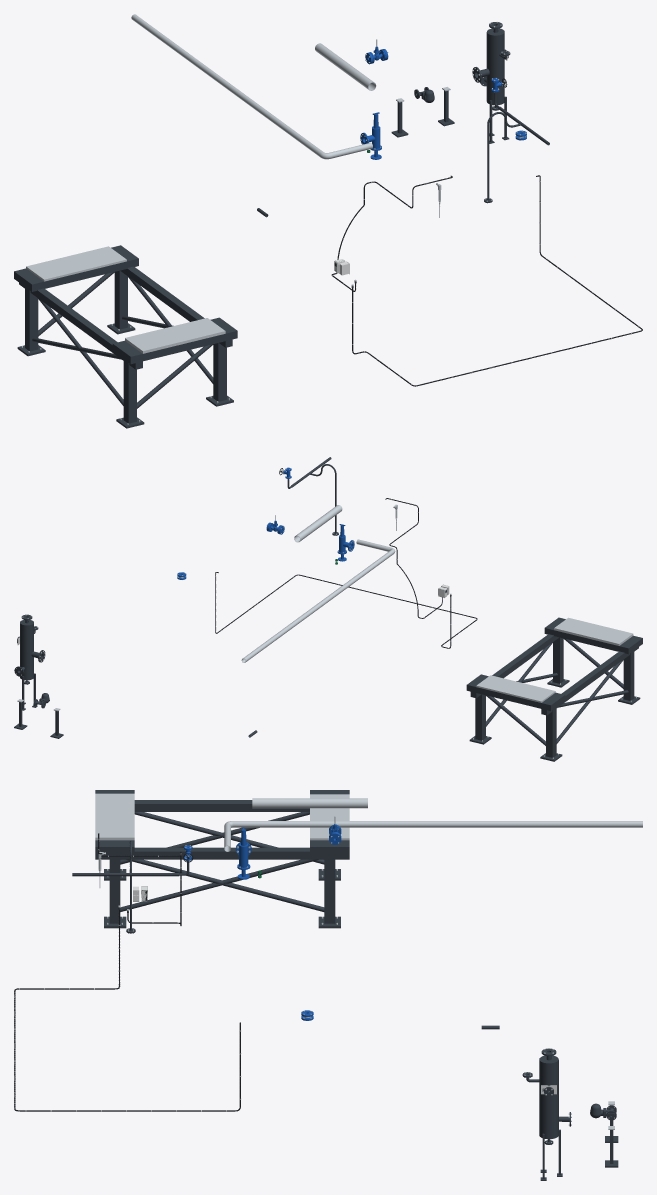
The model's file is s4000-5-BoQfPXzQ.glb.
3 views of the same model, one above another, from view 1: azimuth 30°, elevation 25°; view 2: azimuth 150°, elevation 25°; view 3: azimuth 270°, elevation 25° (orthographic). The views are drawn at different scales.
Visible parts, largest first — view 1: deaerator_support / dark, deaerator_support / steel, safety_vent_1 / steel, separator_fv8 / dark, wiring_pump_1 / black, steam_delivery / steel, pressure_header / dark; view 2: deaerator_support / dark, deaerator_support / steel, separator_fv8 / dark, safety_vent_1 / steel, wiring_pump_1 / black, steam_delivery / steel; view 3: deaerator_support / dark, deaerator_support / steel, safety_vent_1 / steel, separator_fv8 / dark, steam_delivery / steel, wiring_pump_1 / black, pressure_header / dark.
Boxes of the visible parts, x1=… form: deaerator_support / dark: x1=14, y1=245, x2=237, y2=428; deaerator_support / steel: x1=21, y1=246, x2=229, y2=424; safety_vent_1 / steel: x1=131, y1=14, x2=372, y2=159; separator_fv8 / dark: x1=472, y1=22, x2=510, y2=143; wiring_pump_1 / black: x1=352, y1=175, x2=642, y2=386; steam_delivery / steel: x1=315, y1=43, x2=376, y2=90; pressure_header / dark: x1=484, y1=92, x2=549, y2=202; deaerator_support / dark: x1=466, y1=617, x2=642, y2=761; deaerator_support / steel: x1=473, y1=617, x2=636, y2=758; separator_fv8 / dark: x1=14, y1=614, x2=45, y2=710; safety_vent_1 / steel: x1=241, y1=539, x2=395, y2=662; wiring_pump_1 / black: x1=215, y1=572, x2=477, y2=648; steam_delivery / steel: x1=294, y1=505, x2=342, y2=542; deaerator_support / dark: x1=95, y1=790, x2=349, y2=928; deaerator_support / steel: x1=95, y1=793, x2=349, y2=924; safety_vent_1 / steel: x1=224, y1=821, x2=642, y2=851; separator_fv8 / dark: x1=522, y1=1048, x2=570, y2=1180; steam_delivery / steel: x1=252, y1=798, x2=367, y2=808; wiring_pump_1 / black: x1=14, y1=909, x2=240, y2=1111; pressure_header / dark: x1=72, y1=840, x2=189, y2=933.
Bounding box in the file's own units: 8.21 × 3.01 × 7.03.
